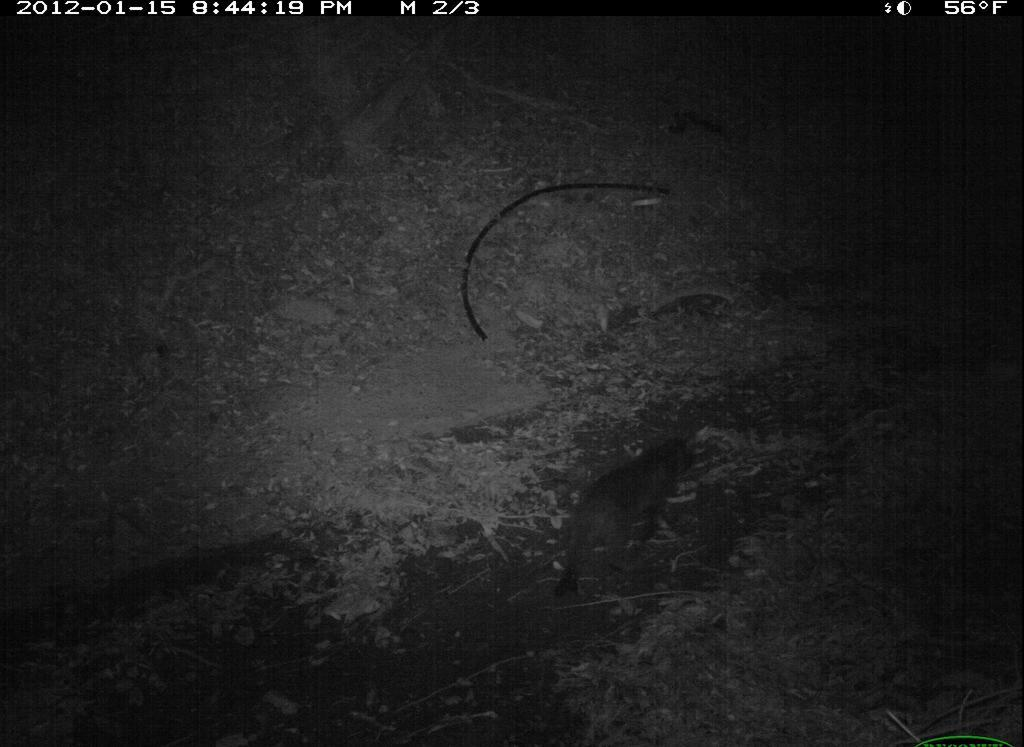cat: (525, 412, 735, 626)
